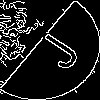J: (25, 25, 83, 72)
